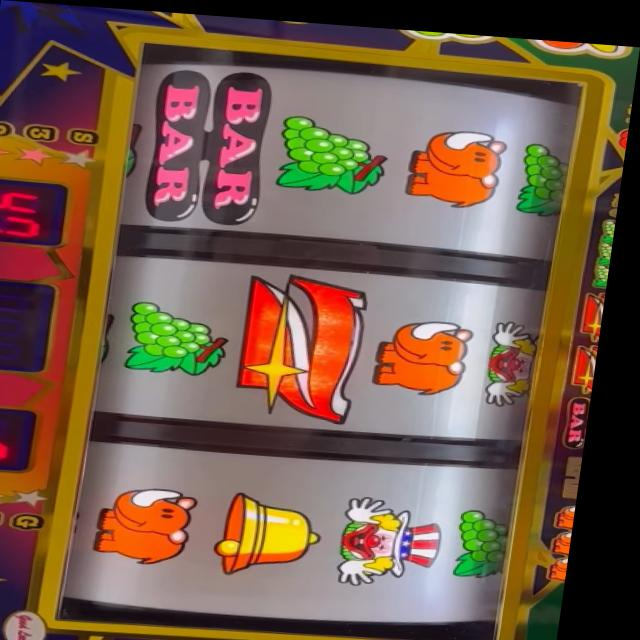bar: (146, 63, 285, 226), (573, 386, 601, 439)
bell: (226, 486, 340, 576)
clown: (340, 489, 463, 584), (486, 310, 550, 401)
display: (74, 43, 585, 640)
elephant: (104, 482, 212, 567), (408, 119, 513, 205), (379, 310, 485, 390), (562, 545, 584, 572), (563, 522, 586, 546), (570, 495, 589, 518)
grape: (277, 111, 396, 190), (131, 297, 242, 373), (464, 497, 529, 572), (516, 135, 572, 207), (596, 253, 616, 278), (602, 207, 621, 232), (599, 231, 618, 254)
z: (240, 267, 379, 420), (579, 333, 607, 384), (584, 282, 613, 331)
